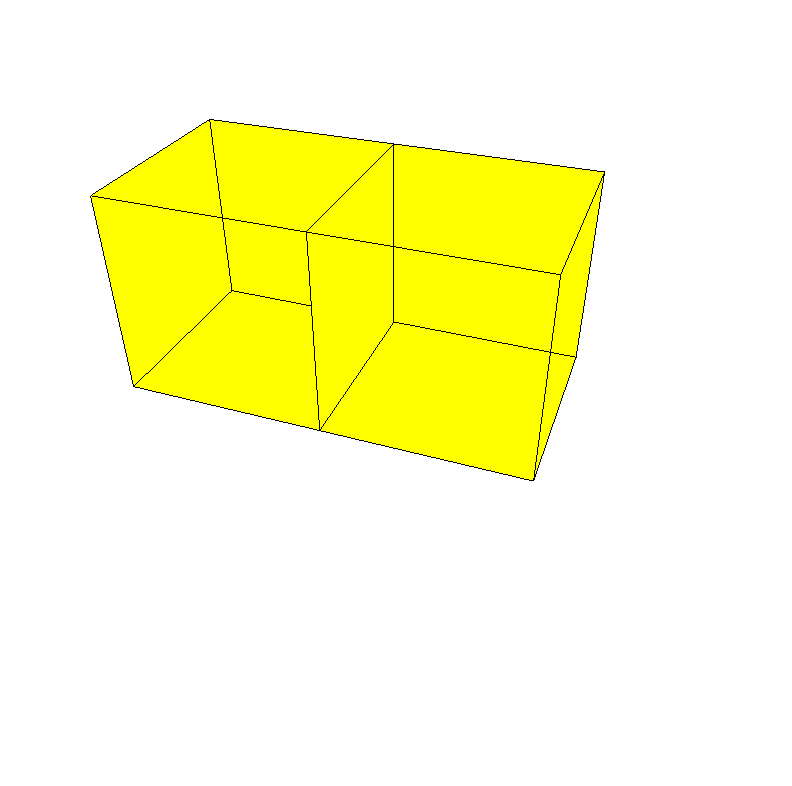YellowYellow: (88, 116, 608, 487)
